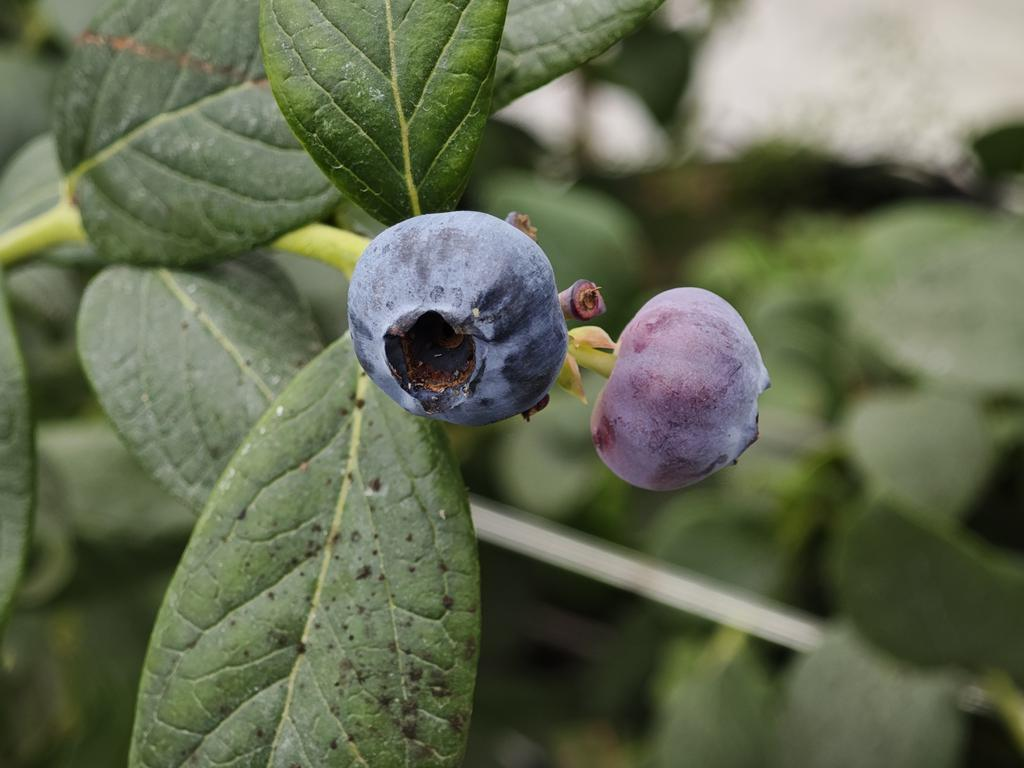RipeBlueBerry: (350, 210, 566, 423), (597, 284, 771, 490)
